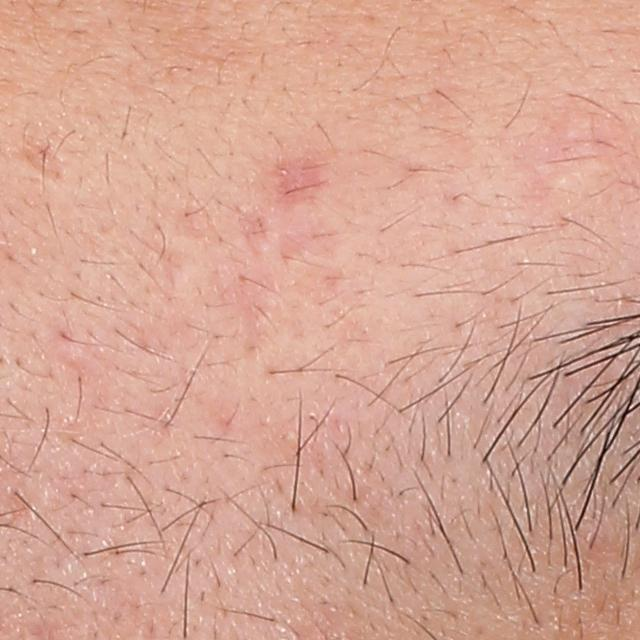atrophic_scar: (260, 139, 349, 231), (20, 133, 67, 185), (235, 207, 271, 256)
